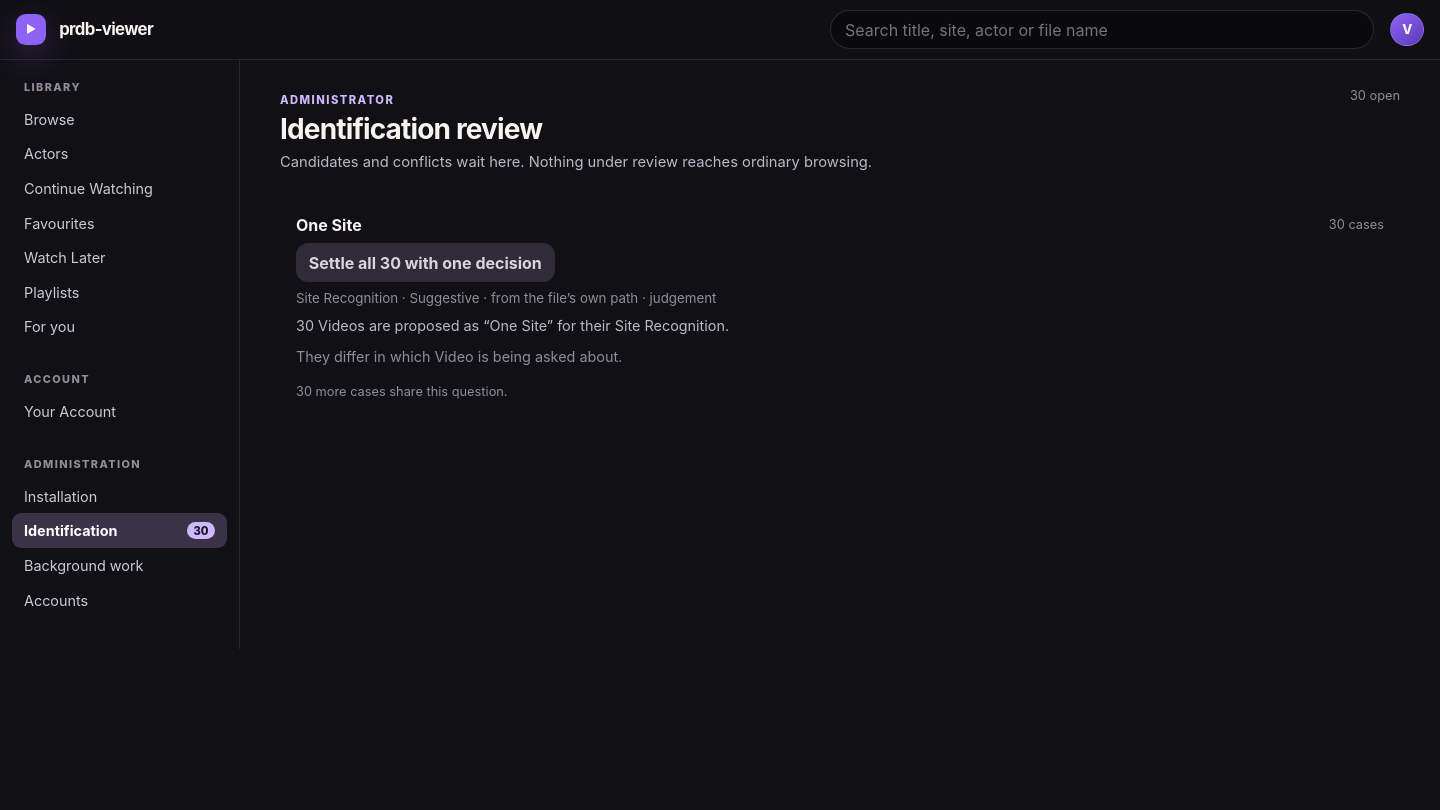
Scenario: App › settles a group with one decision, in bounded batches, and says what it left open
Click the button "Settle all 30 with one decision". click: (425, 262)
box: [296, 243, 555, 282]
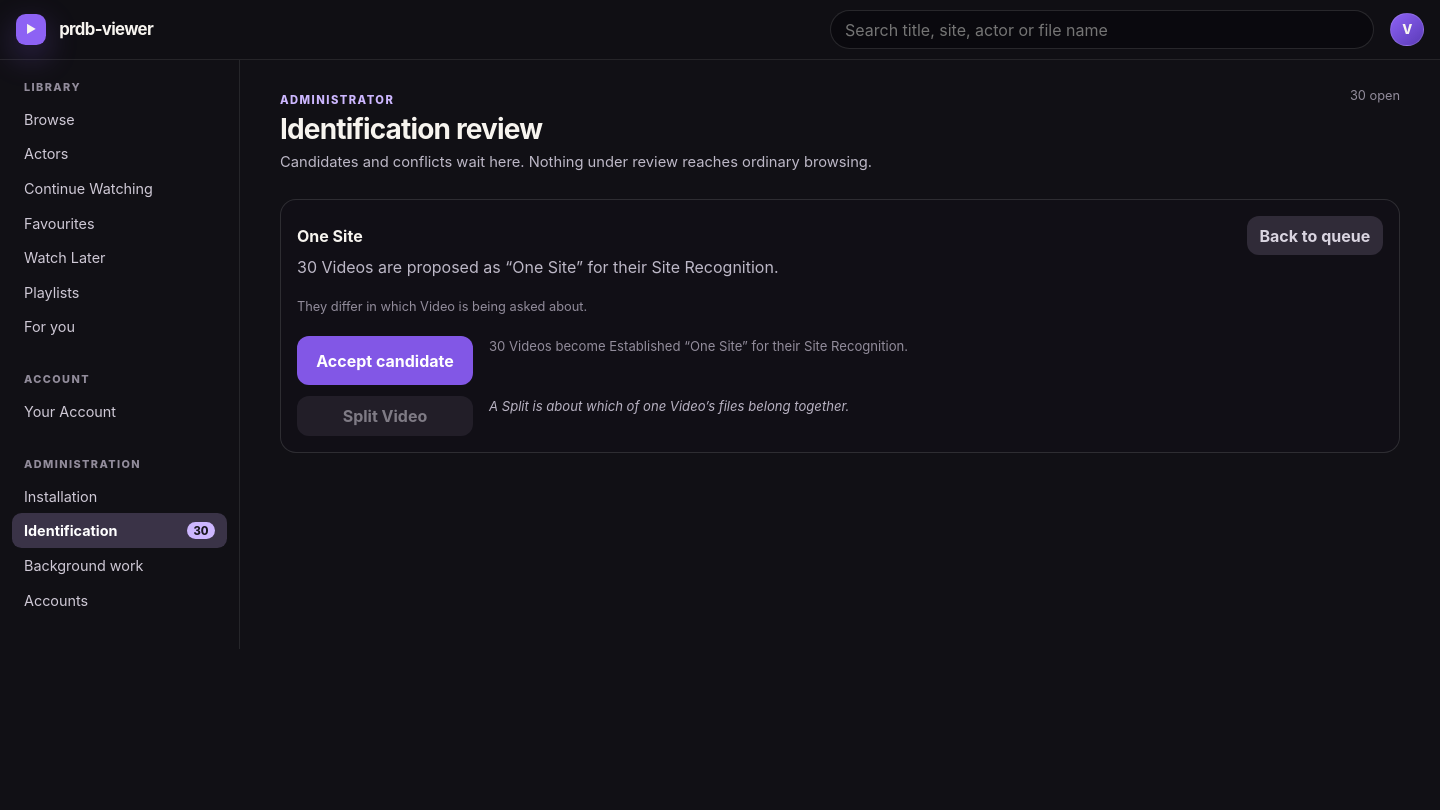
Result: the text "30 Videos become Established “One Site” for their Site Recognition." is shown at [489, 338, 908, 354]
Result: the text "A Split is about which of one Video’s files belong together." is shown at [489, 398, 849, 414]
Result: the button "Split Video" is disabled at [297, 396, 473, 436]
Click the button "Accept candidate". click: (385, 361)
box: [297, 336, 473, 385]
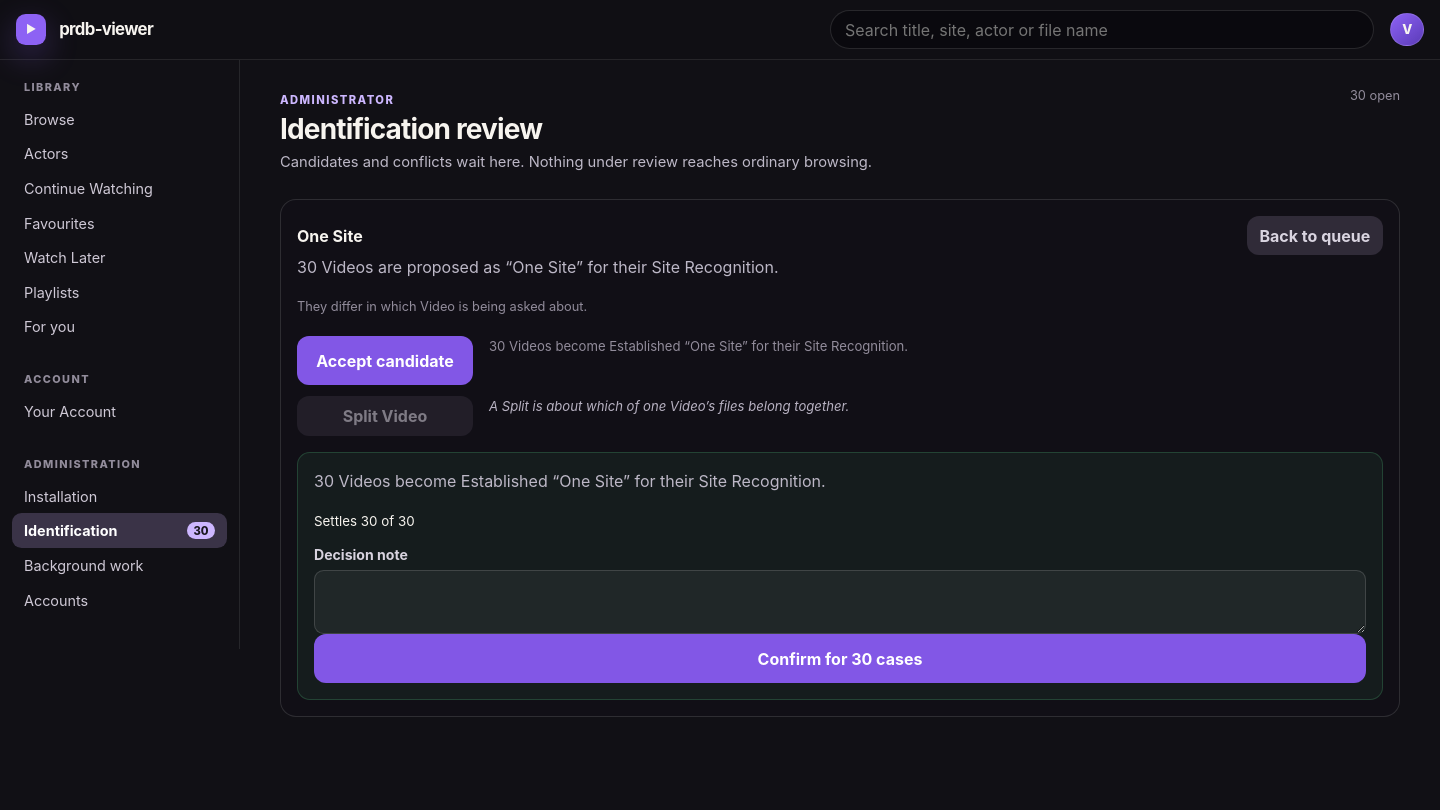
Click the button "Confirm for 30 cases". click: (840, 659)
box: [314, 634, 1366, 683]
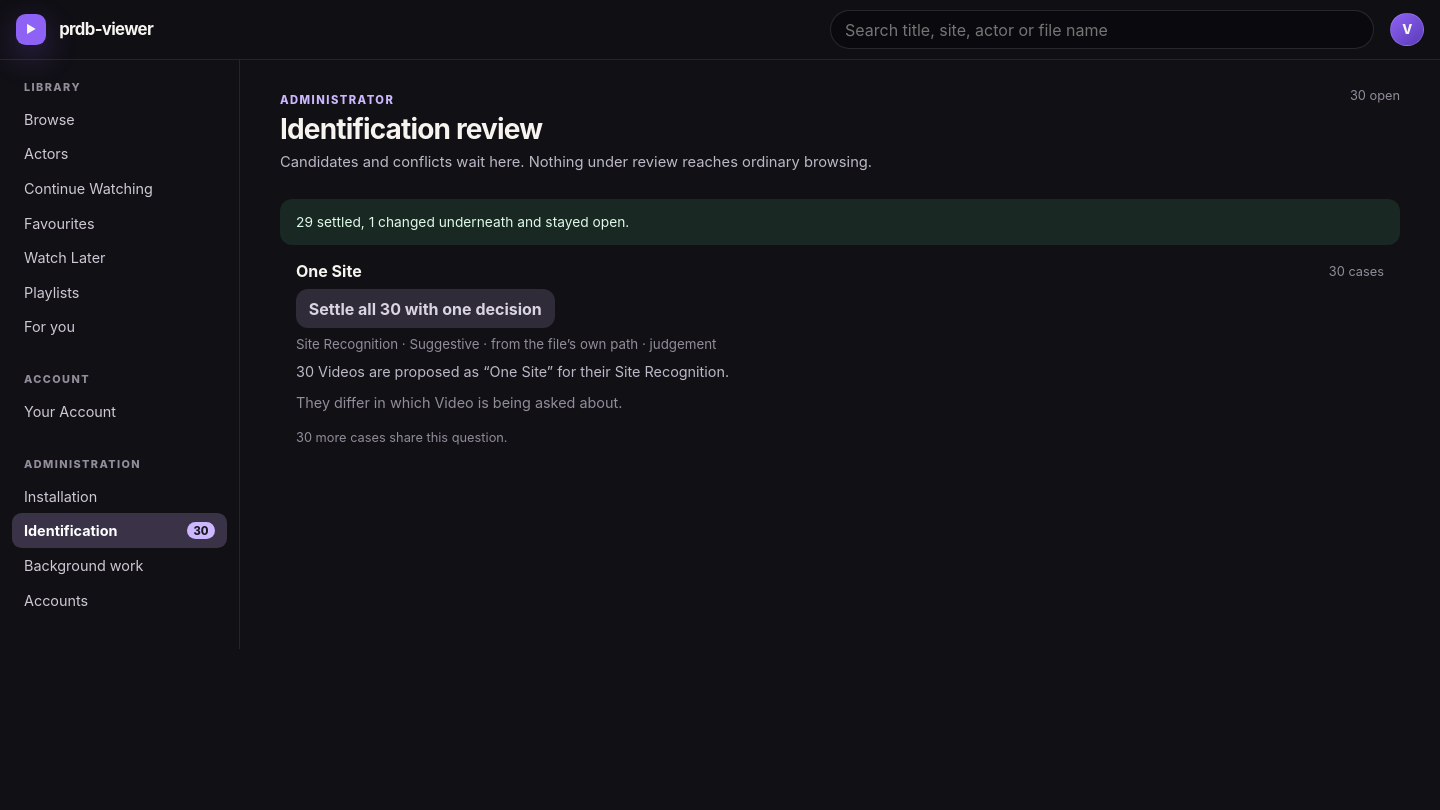
Result: the text "29 settled, 1 changed underneath and stayed open." is shown at [280, 199, 1400, 245]
